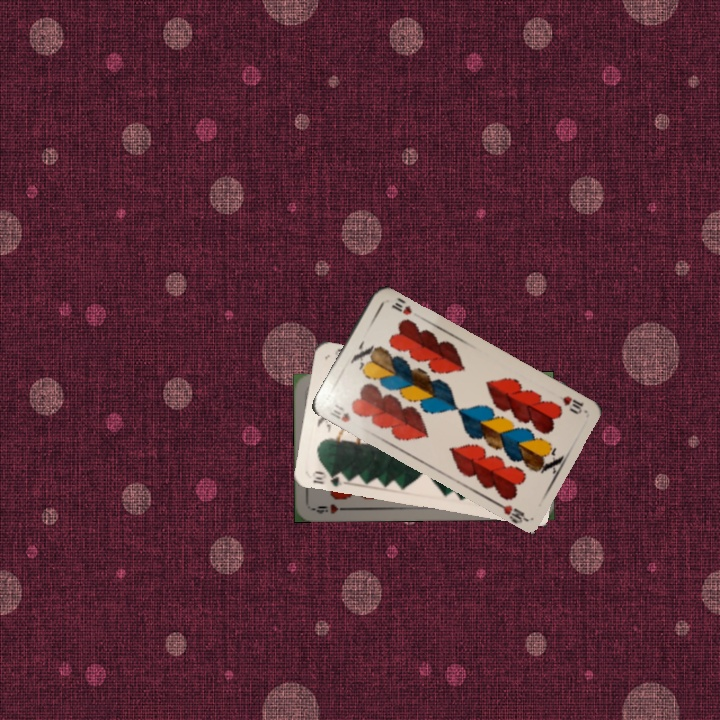G10: (309, 467, 348, 488)
H10: (326, 400, 353, 425), (559, 392, 586, 417)
H9: (309, 500, 350, 517)
